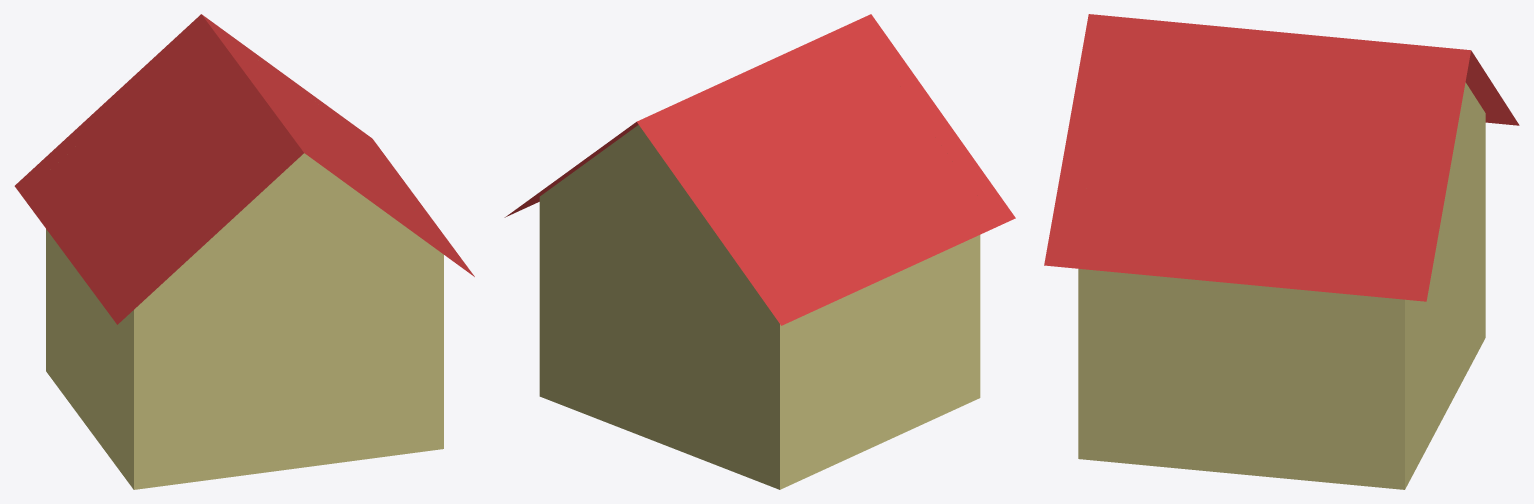
The picture shows the model from 3 angles, left to right: view 1: azimuth 30°, elevation 25°; view 2: azimuth 150°, elevation 25°; view 3: azimuth 270°, elevation 25°; orthographic projection. The views are drawn at different scales.
Bounding box in the file's own units: 13.17 × 12.48 × 10.71.
